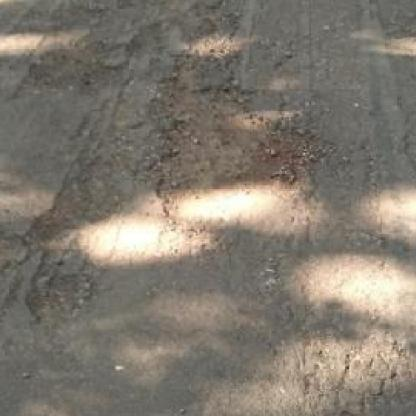pothole: (151, 70, 338, 241)
